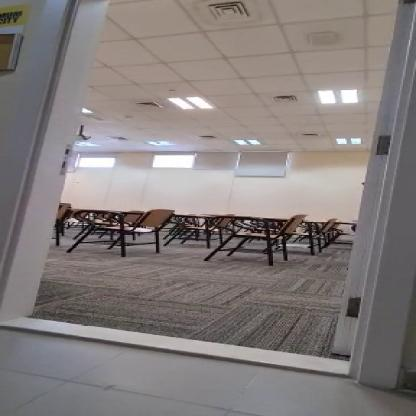open: (0, 0, 414, 395)
